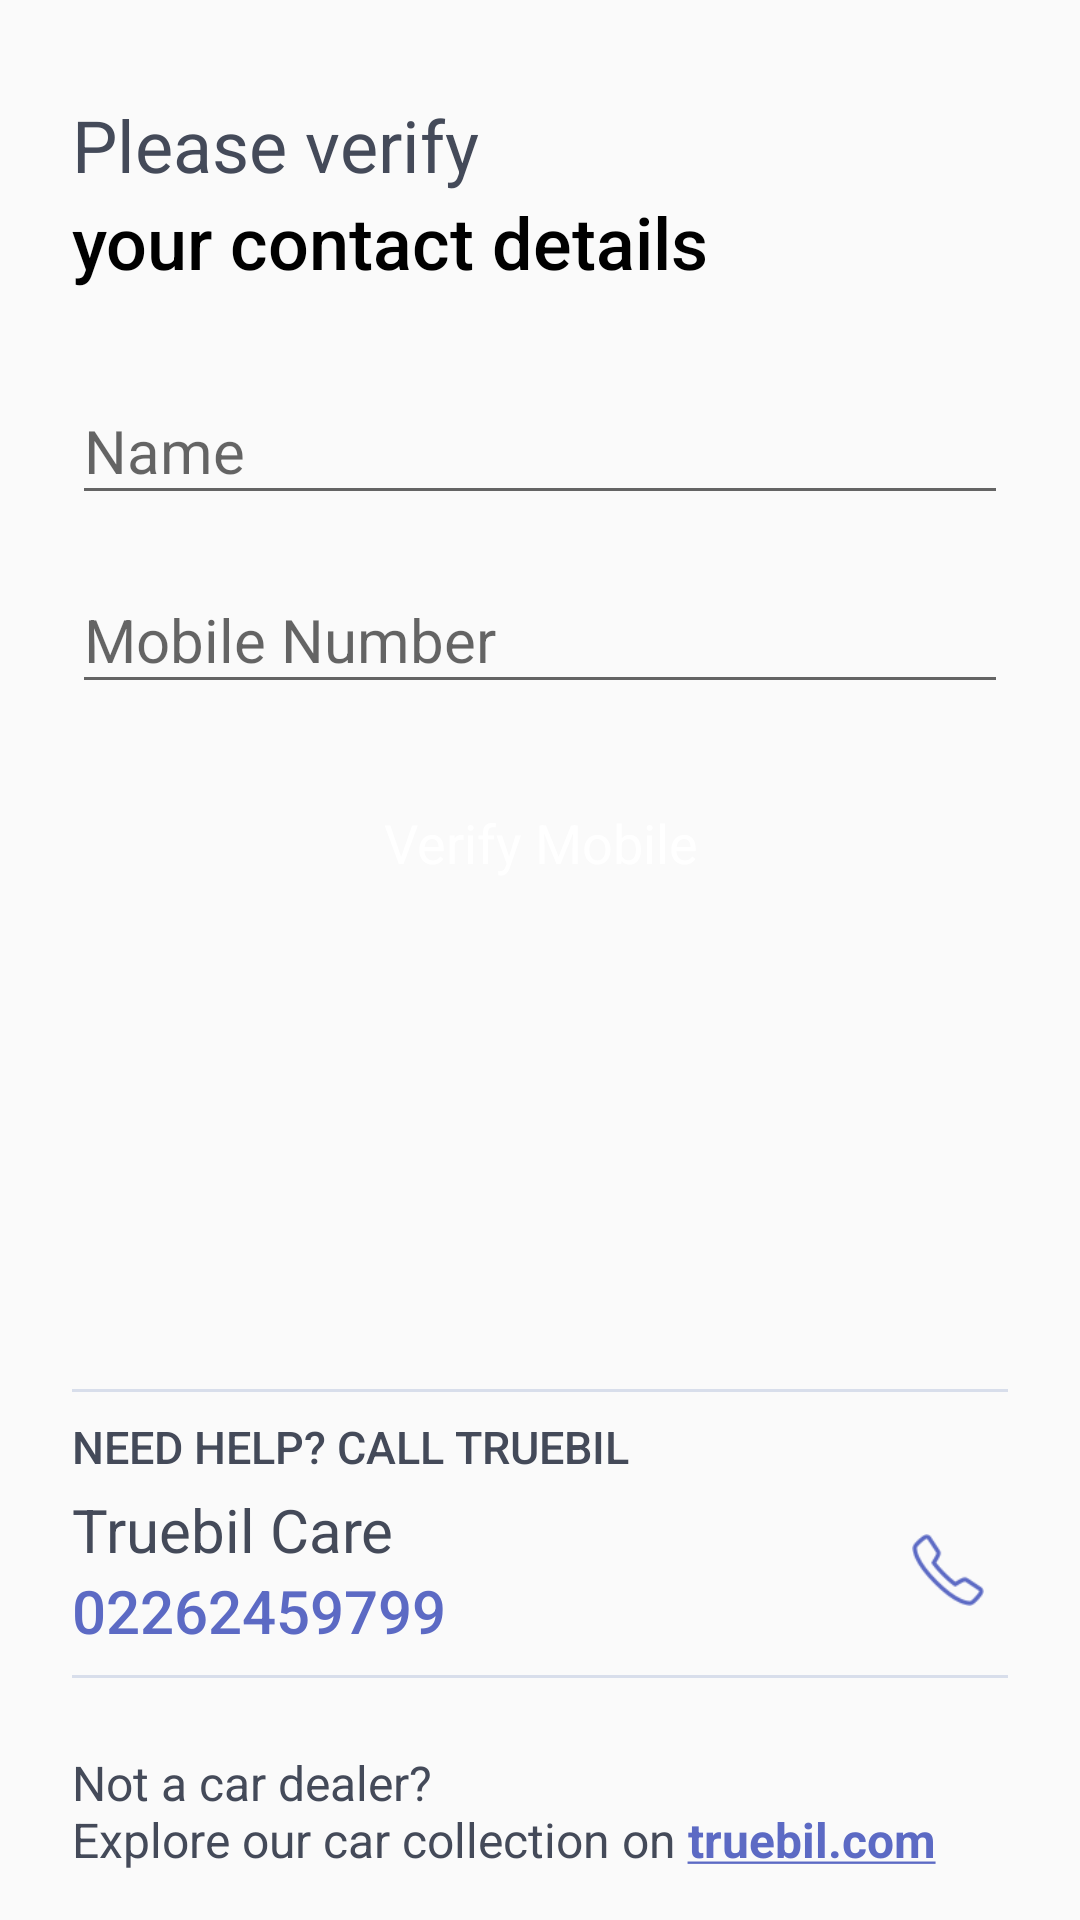

Icons on this 1080w x 1920h Android screen, each with its box as (x1, y1, x2, y2):
phone: (912, 1534, 984, 1606)
